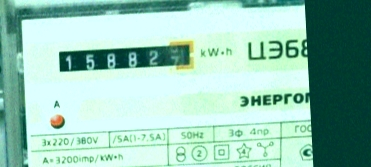1: (64, 53, 73, 69)
2: (147, 47, 158, 65)
5: (85, 52, 95, 68)
7: (170, 53, 179, 65)
8: (126, 49, 137, 67), (106, 51, 116, 68)
screen: (51, 34, 201, 81)
